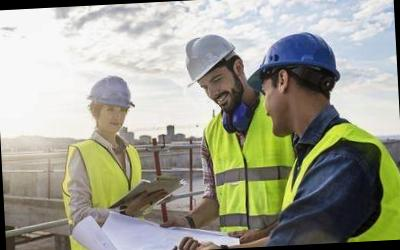helmet: (243, 32, 344, 96), (180, 32, 240, 90), (86, 76, 130, 108)
person: (256, 27, 397, 242), (176, 30, 266, 250), (65, 74, 150, 250)
